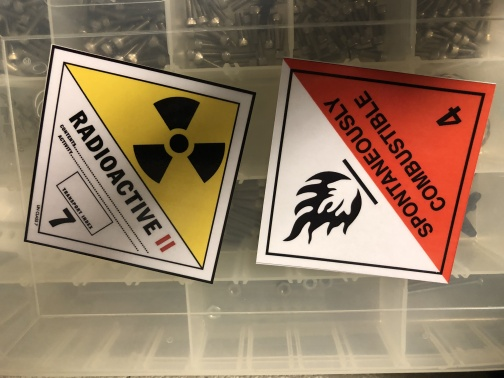Radioactive: (24, 44, 255, 284)
SpontaneouslyCombustible: (256, 58, 497, 284)
